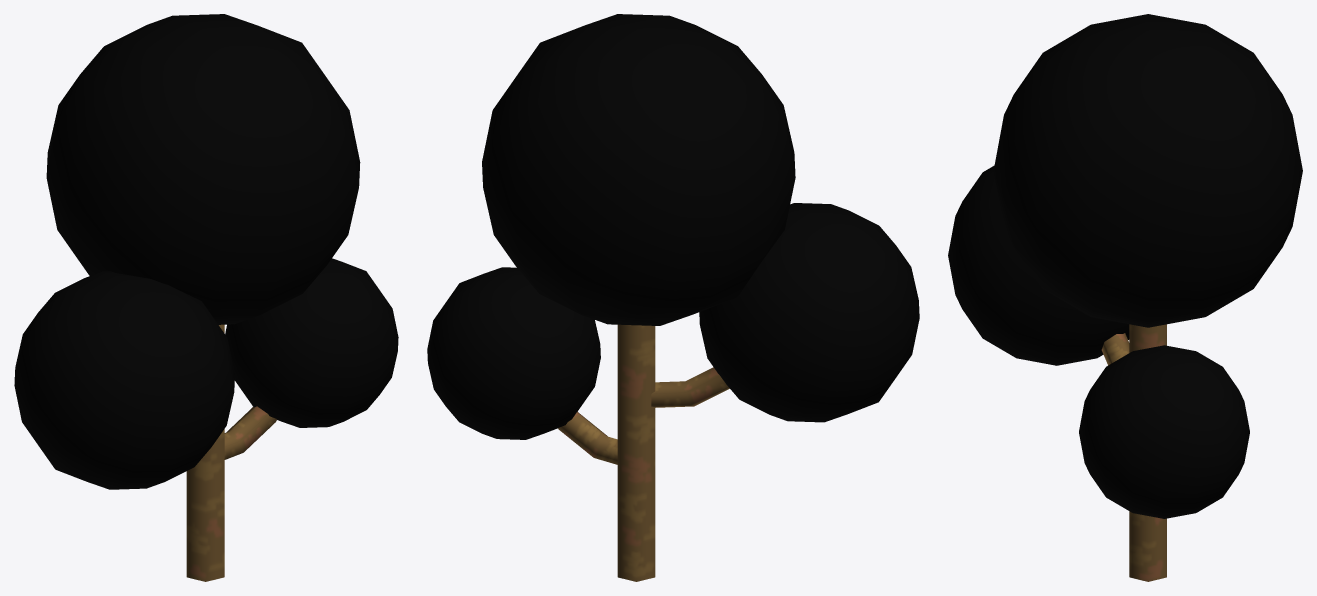
The model's file is wood_sphere_1.fbx.
The picture shows the model from 3 angles, left to right: view 1: azimuth 30°, elevation 25°; view 2: azimuth 150°, elevation 25°; view 3: azimuth 270°, elevation 25°; orthographic projection.
Visible parts, largest first — view 1: polySurface3; view 2: polySurface3; view 3: polySurface3.
Boxes of the visible parts, x1,y1,x2,y2 form: polySurface3: [14, 14, 398, 581]; polySurface3: [427, 14, 919, 581]; polySurface3: [948, 14, 1302, 581].
Size of the model in its own units: 25.13 by 31.84 by 18.93.
